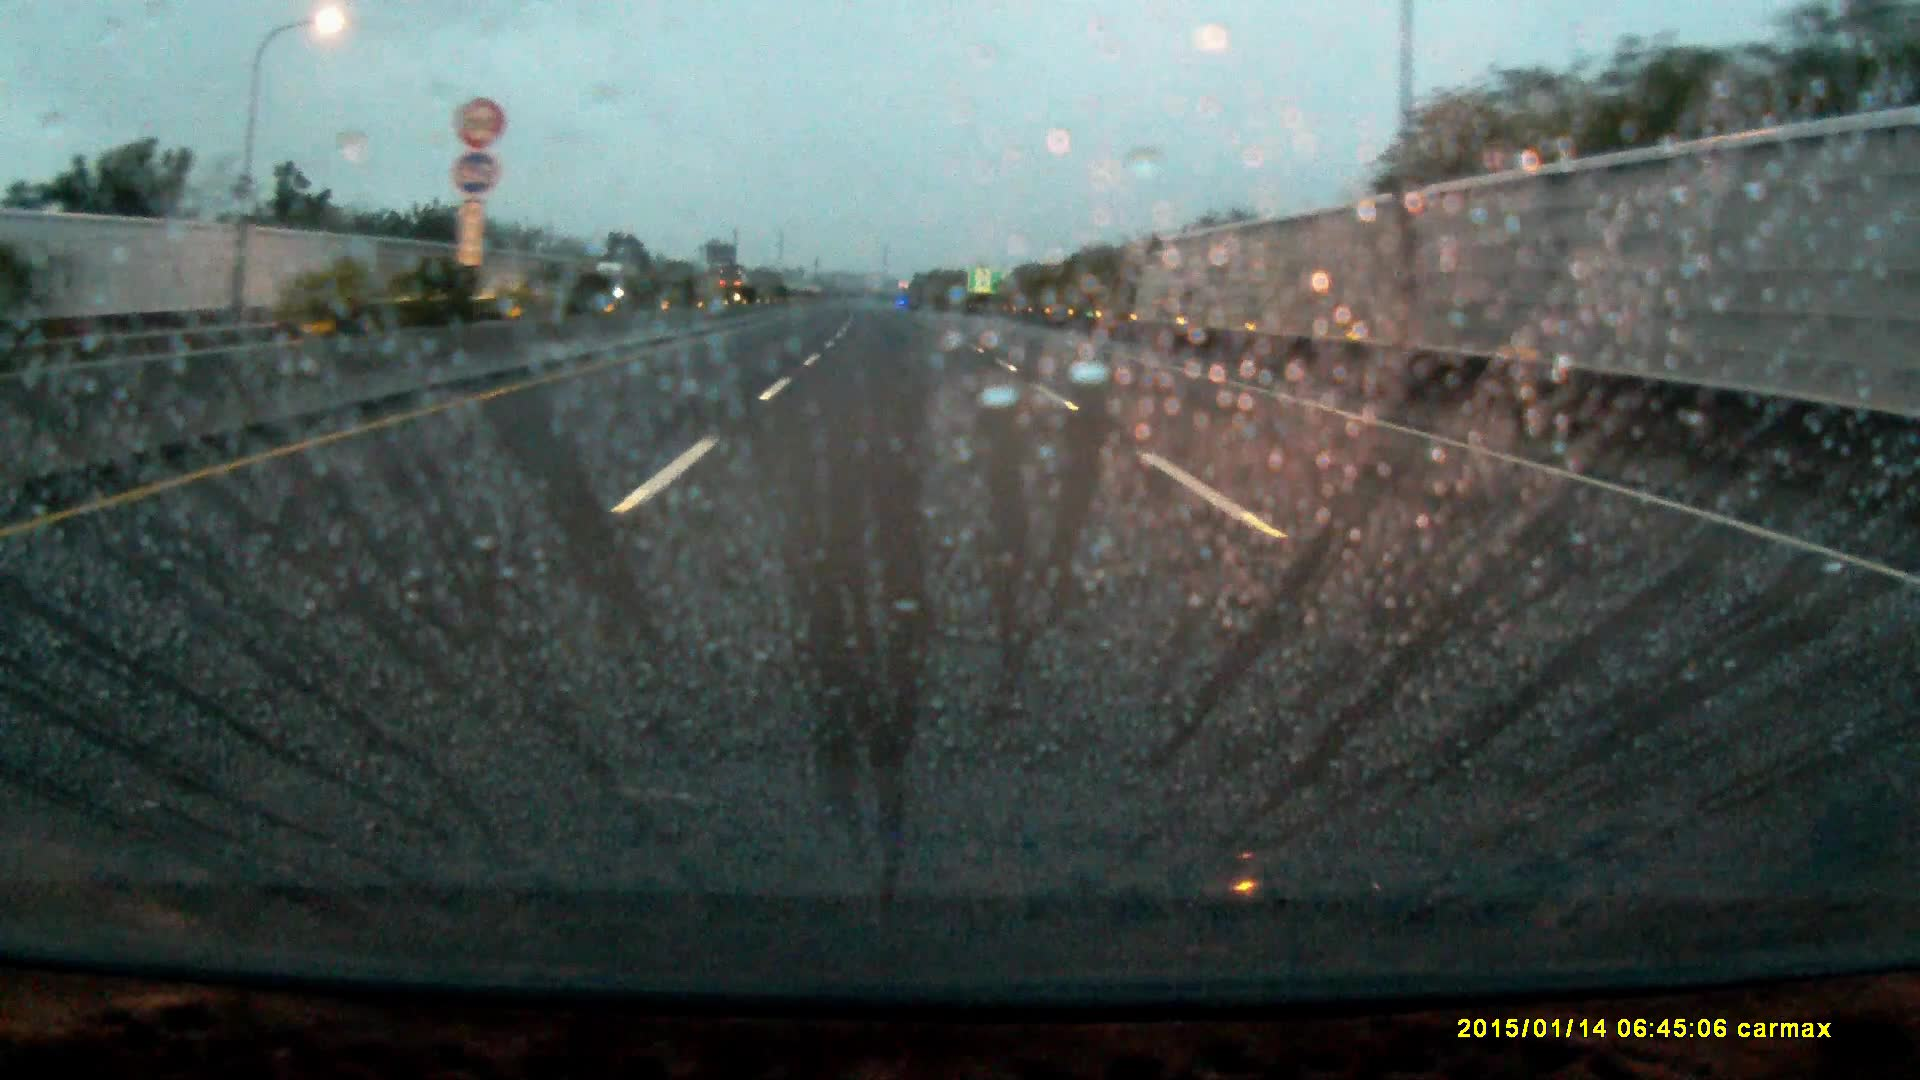vehicle: (593, 262, 640, 299), (719, 277, 753, 305)
